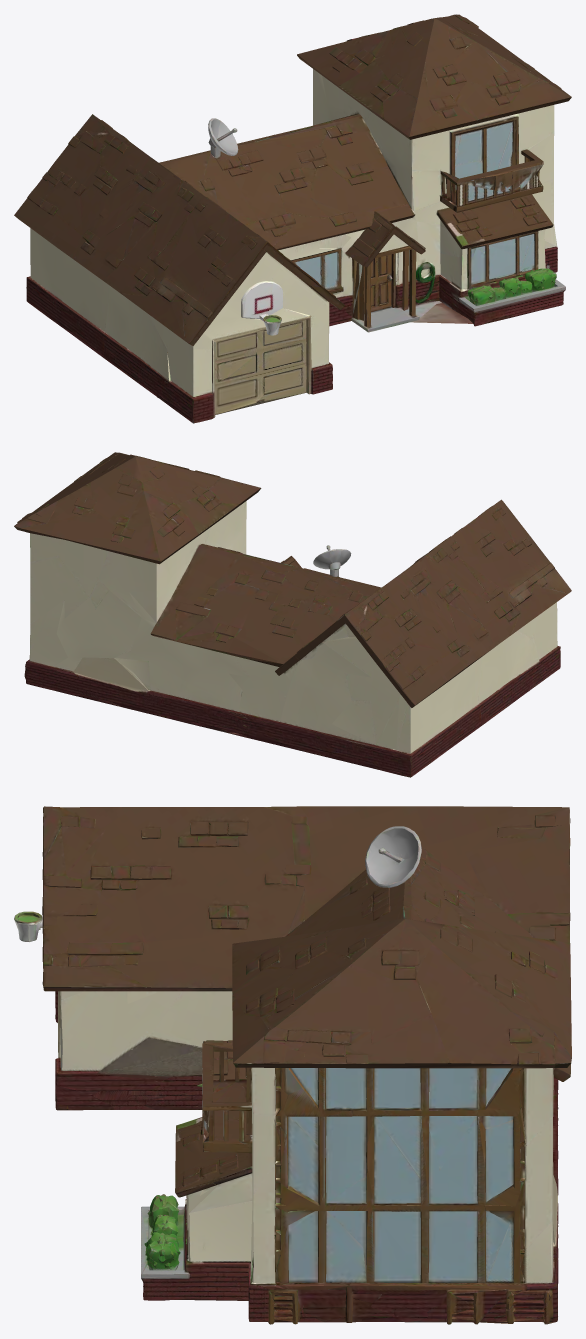
Rendered from smith-house.glb.
3 renders of one model, top to bottom at view 1: azimuth 30°, elevation 25°; view 2: azimuth 150°, elevation 25°; view 3: azimuth 270°, elevation 25°, orthographic. The views are drawn at different scales.
Bounding box in the file's own units: 1.9 × 0.9472 × 1.36.
1 material, 1 textured.
